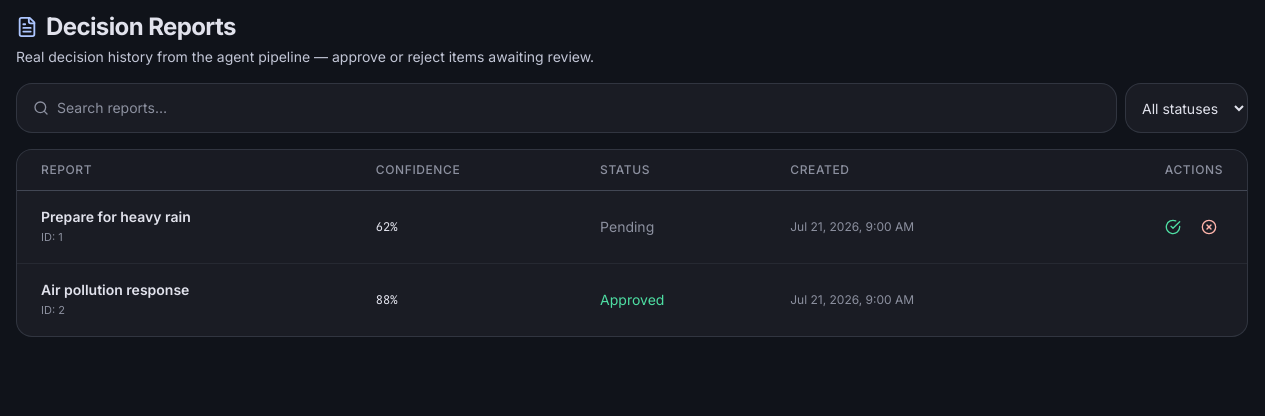
Test: ReportsPage › shows an inline error when rejecting a report fails
Click the button with test id "report-reject-button": (1209, 227) [1195,213,1223,241]
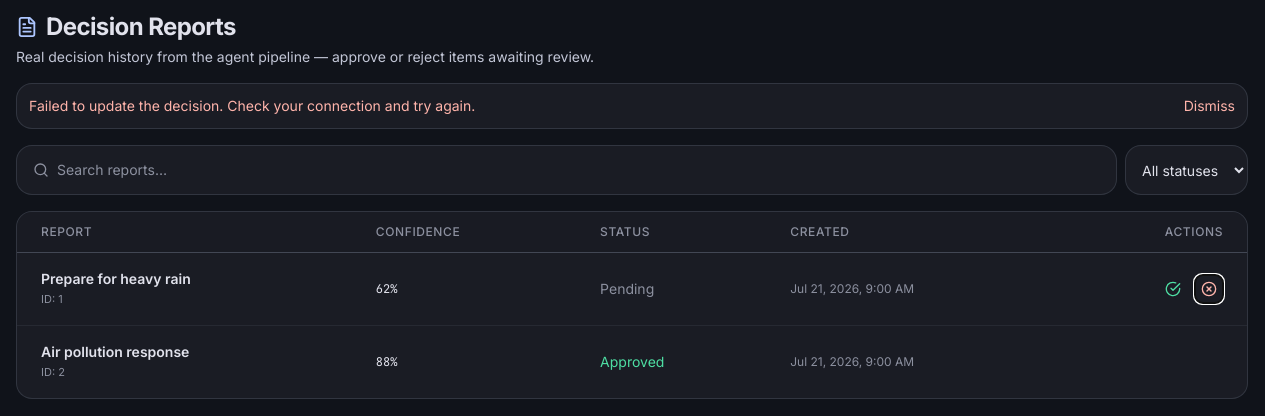
Result: the element with test id "reports-action-error" is shown at [16,83,1248,129]
